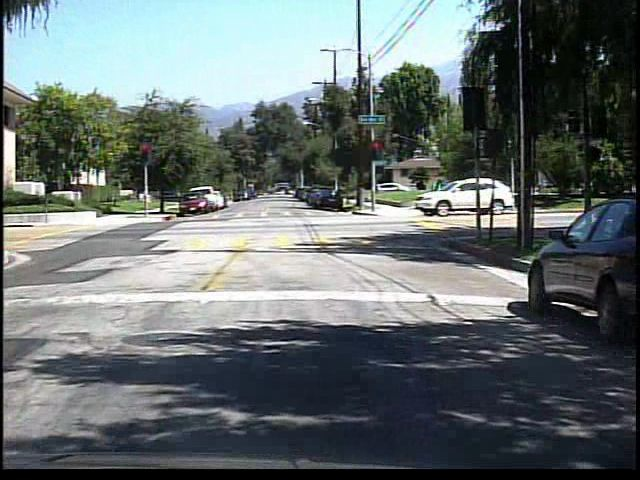person: (430, 174, 447, 196)
